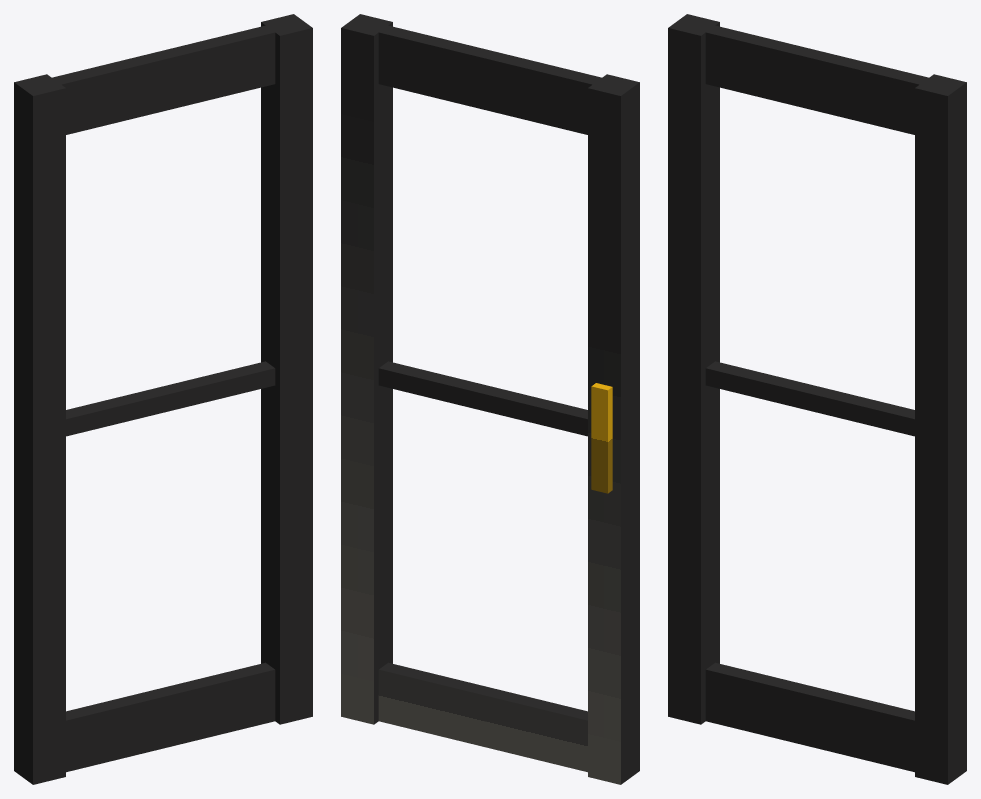
Rendered from shops_door.fbx.
3 views of the same model, side by side, from view 1: azimuth 30°, elevation 25°; view 2: azimuth 150°, elevation 25°; view 3: azimuth 330°, elevation 25° (orthographic).
Parts seen in each view (by area): view 1: cuboid_1, cuboid, cuboid_2, cuboid_3, cuboid_4; view 2: cuboid, cuboid_1, cuboid_2, cuboid_3, cuboid_4, cuboid_5; view 3: cuboid, cuboid_1, cuboid_2, cuboid_3, cuboid_4.
Part boxes in pixels (x1,y1,x2,y2): cuboid_1: (14, 74, 65, 784); cuboid: (261, 14, 312, 724); cuboid_2: (52, 25, 275, 134); cuboid_3: (66, 662, 275, 772); cuboid_4: (66, 361, 275, 436); cuboid: (341, 14, 392, 724); cuboid_1: (588, 74, 639, 784); cuboid_2: (378, 25, 601, 134); cuboid_3: (378, 662, 587, 772); cuboid_4: (378, 361, 587, 436); cuboid_5: (591, 383, 612, 493); cuboid: (915, 74, 966, 784); cuboid_1: (668, 14, 719, 724); cuboid_2: (705, 25, 928, 134); cuboid_3: (705, 662, 914, 772); cuboid_4: (705, 361, 914, 436).
Size of the model in its own units: 21.25 by 50 by 3.12.
1 material, 1 textured.
